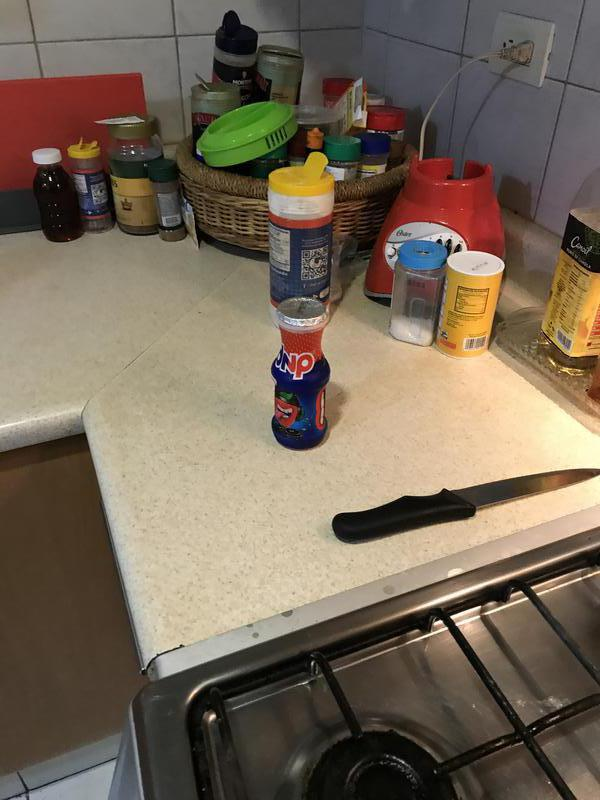danup: (274, 300, 331, 452)
